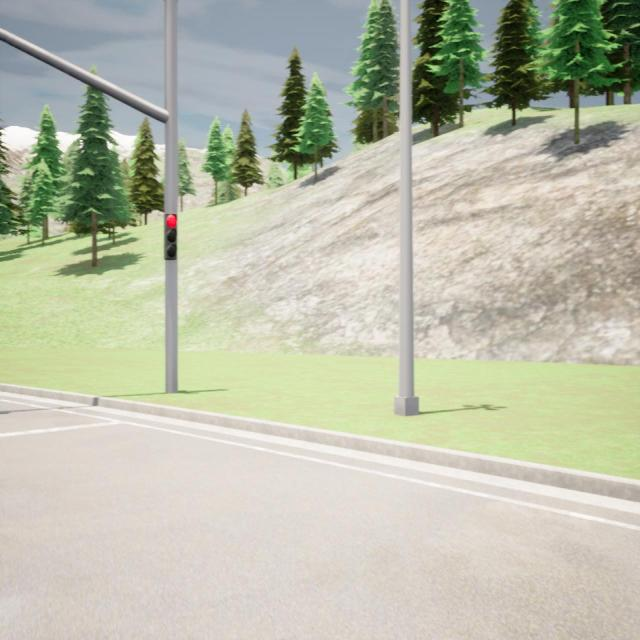traffic_light: (165, 213, 177, 260)
